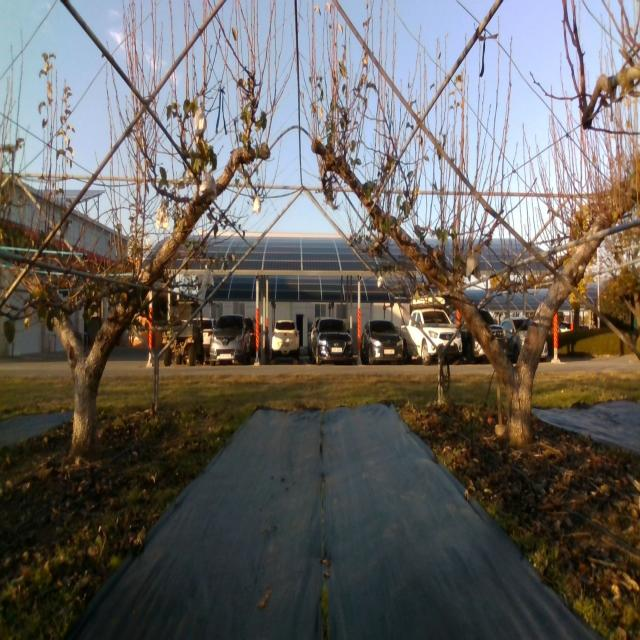pearbags: (199, 174, 217, 200), (466, 256, 481, 282), (194, 108, 207, 136), (156, 204, 169, 230), (202, 269, 215, 287)
